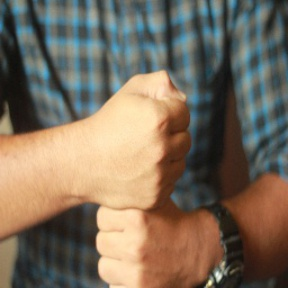G: (86, 66, 203, 288)
